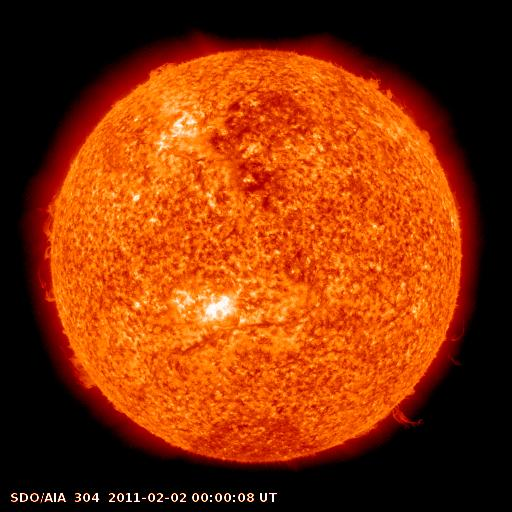prominence: (355, 60, 446, 162), (21, 187, 67, 310), (423, 296, 482, 378), (377, 381, 437, 439), (60, 335, 109, 400), (134, 51, 186, 98)
